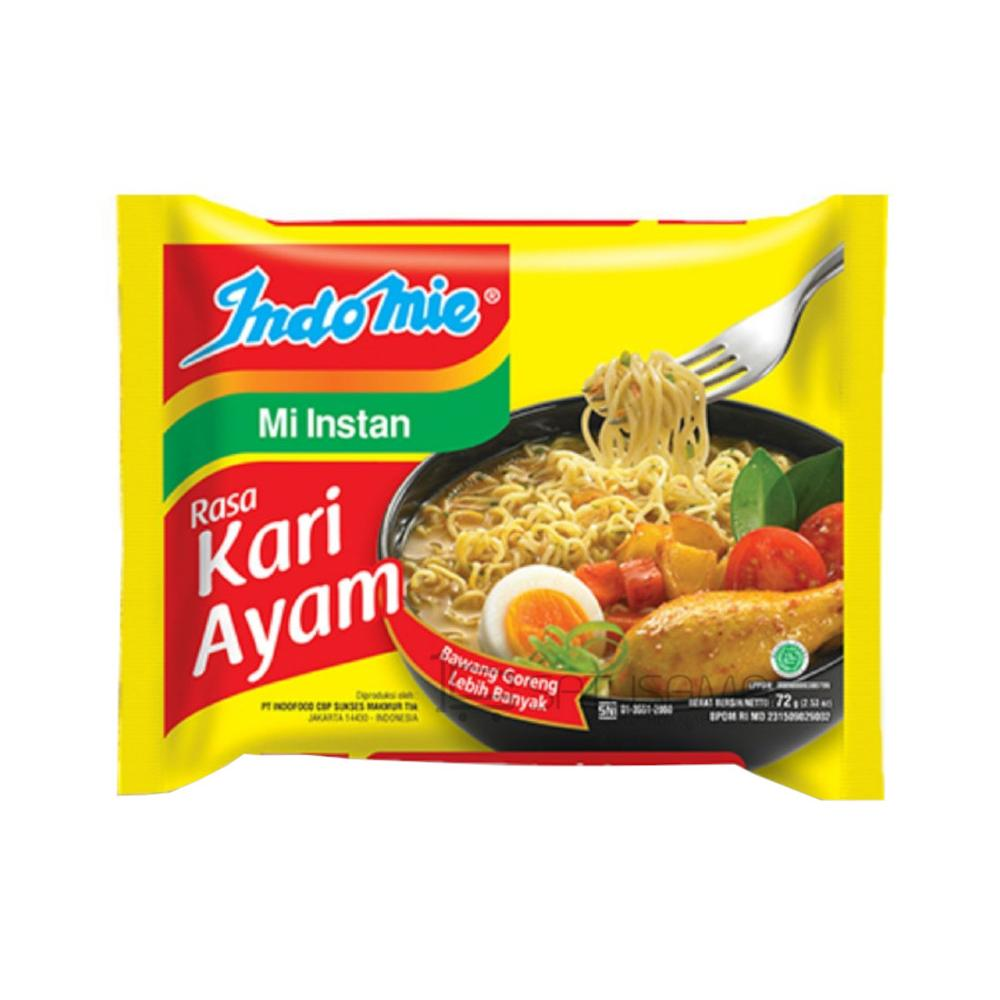indomie kari ayam: (77, 152, 889, 830)
